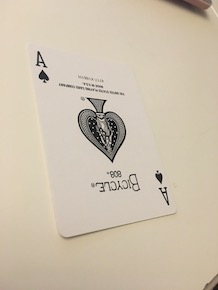AceOfSpades: (23, 38, 180, 240)
